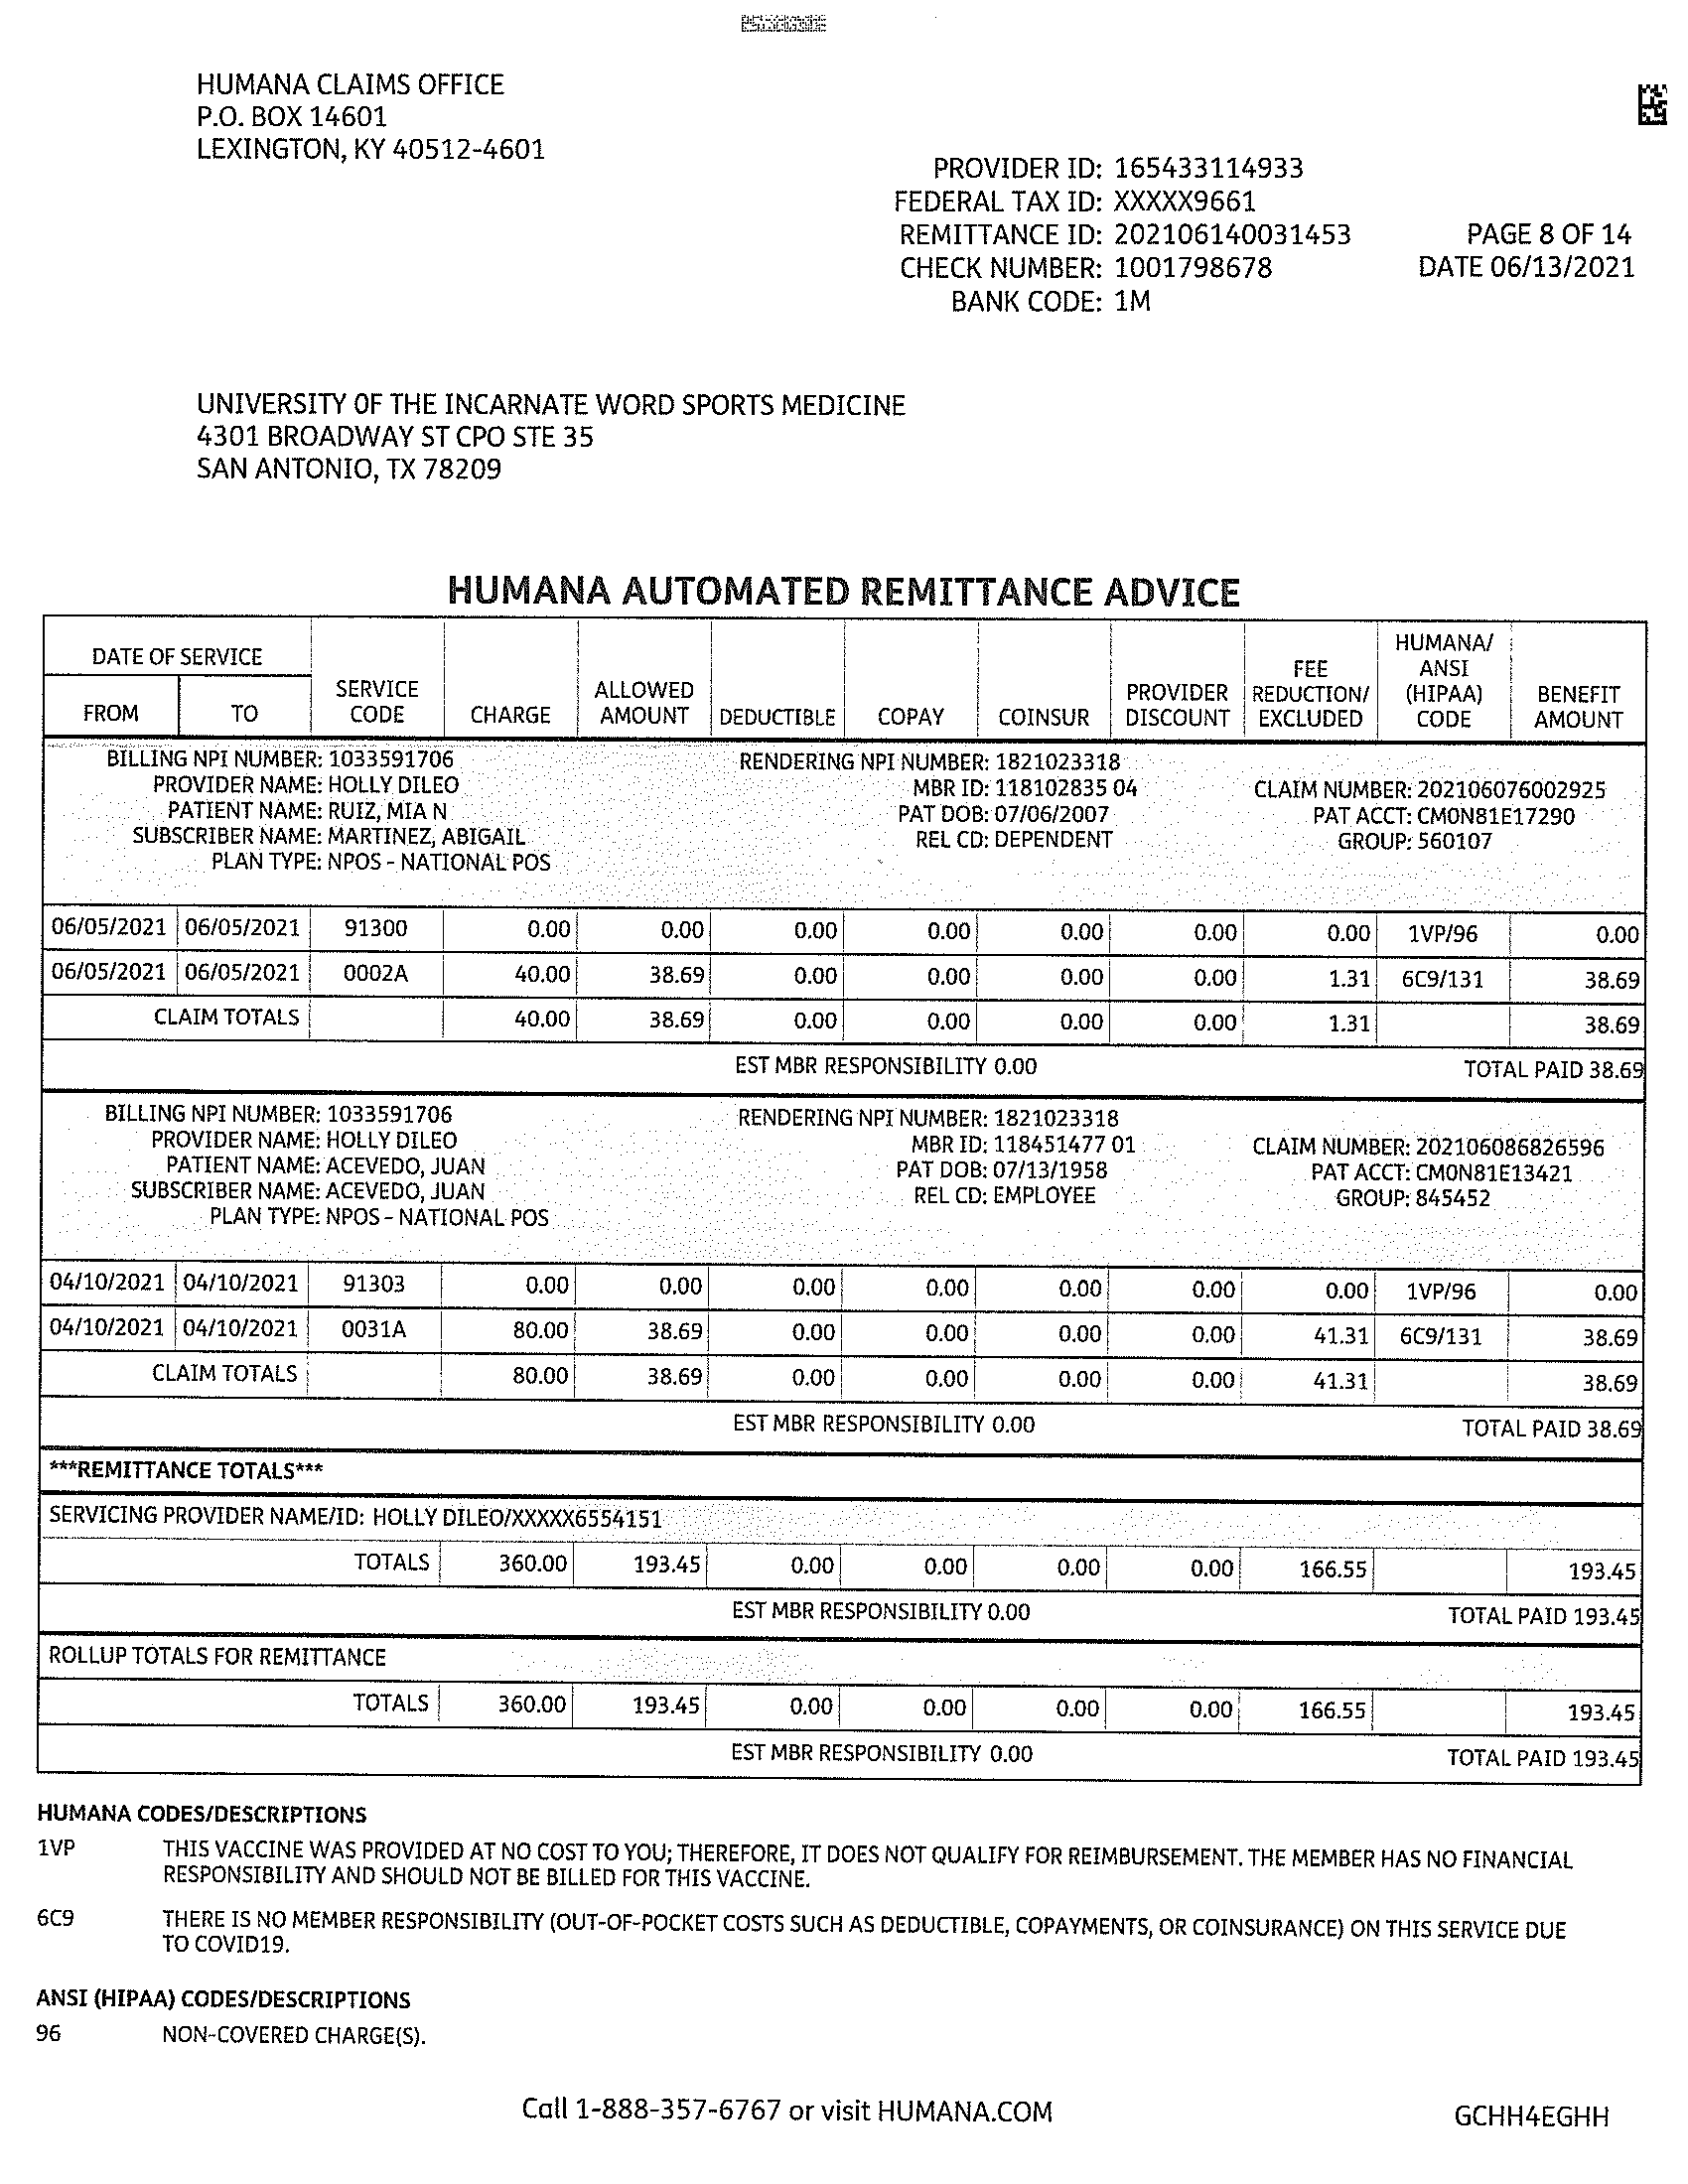data: (864, 133, 1369, 346), (176, 381, 913, 489), (89, 745, 574, 892), (89, 1088, 553, 1241), (716, 1097, 1144, 1227), (1218, 1106, 1628, 1232), (174, 50, 573, 177), (739, 750, 1160, 870), (1243, 752, 1615, 870)
table: (32, 596, 1658, 1805)
